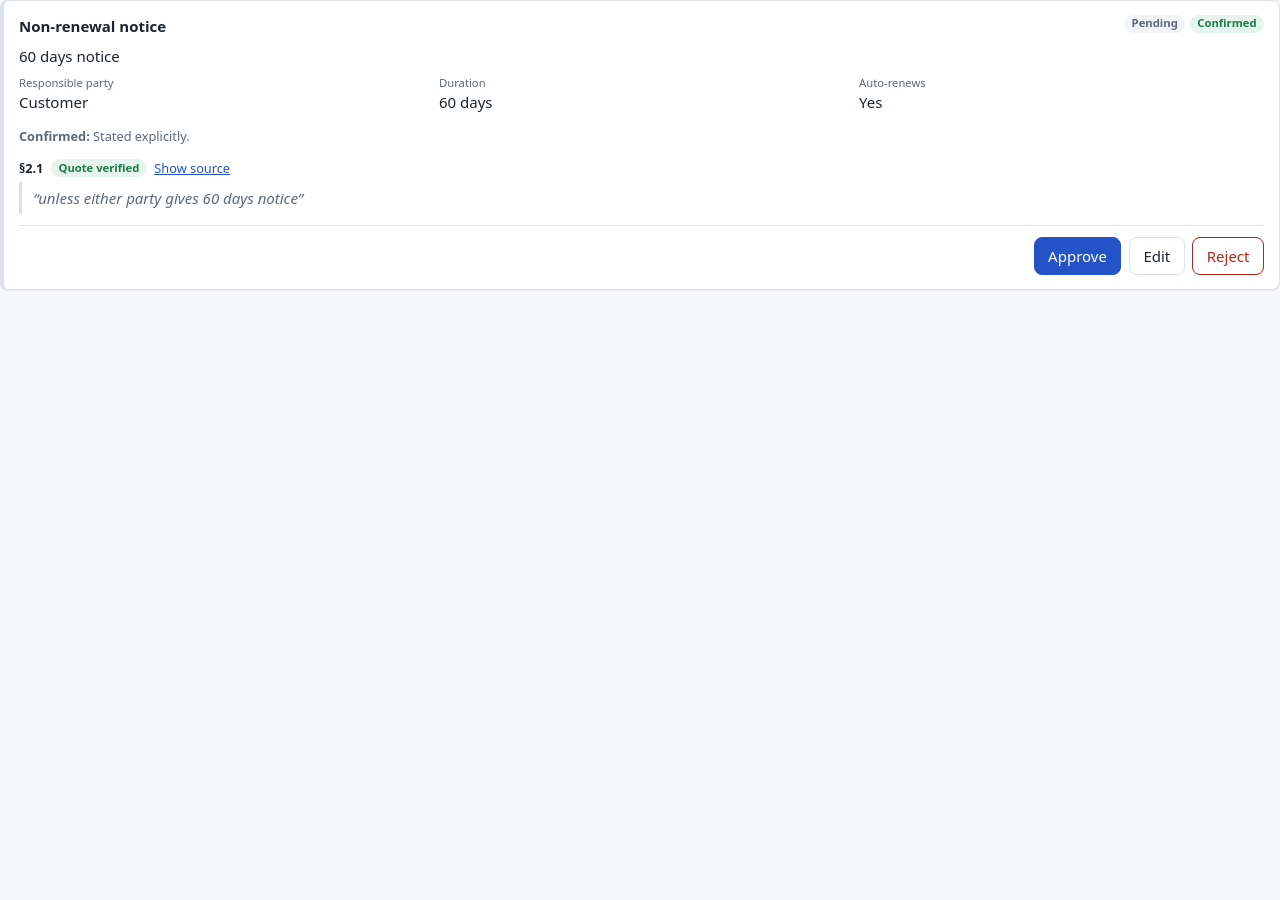
Test: ItemCard › shows the item with its citation and approves a verified item in one click
Expected: the text "60 days notice" is shown, [19,46,120,66]
Expected: the text "§2.1" is shown, [19,158,43,178]
Click the button "Approve": (1078, 256) [1034,237,1121,275]
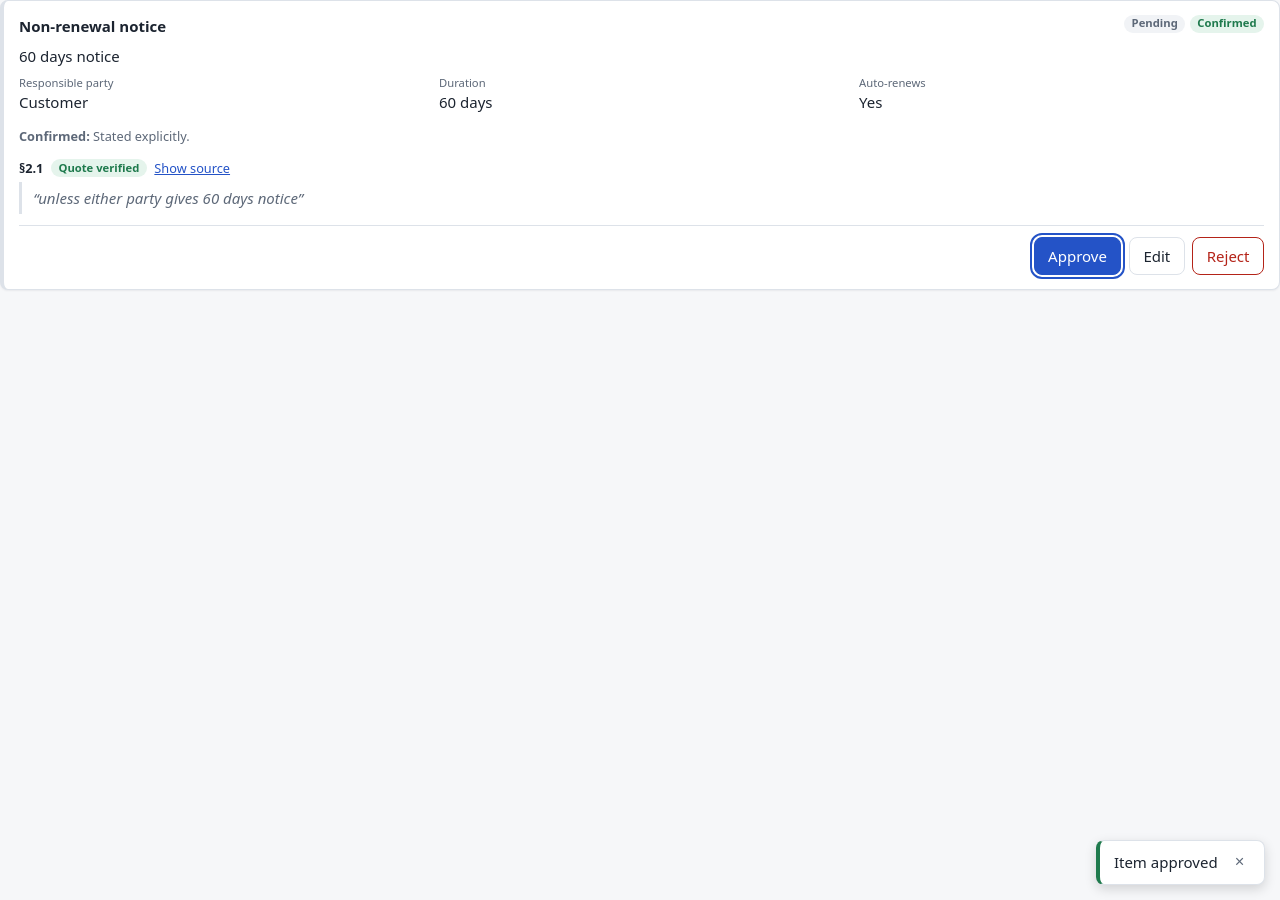
Expected: the text "Item approved" is shown, [1114,851,1218,874]
